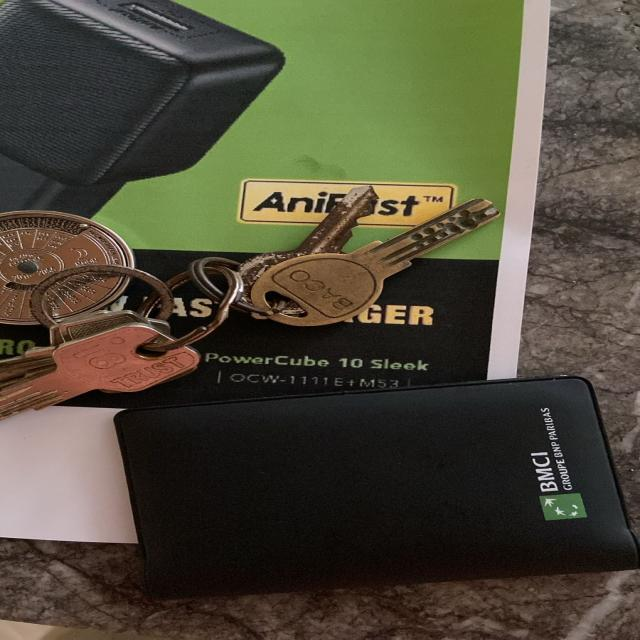PowerCube 10 Sleek OCW-1111ExM53: (199, 346, 447, 397)
